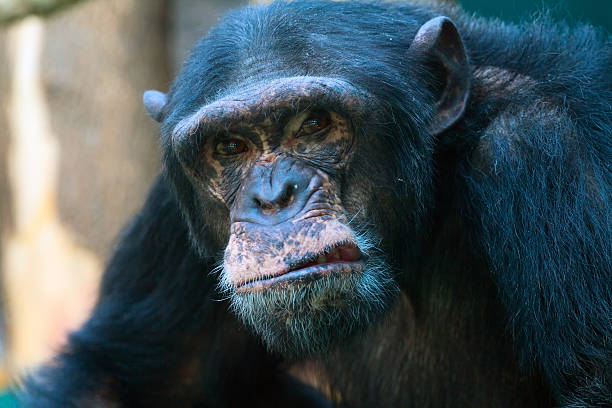chimpanzee: (105, 4, 518, 390)
